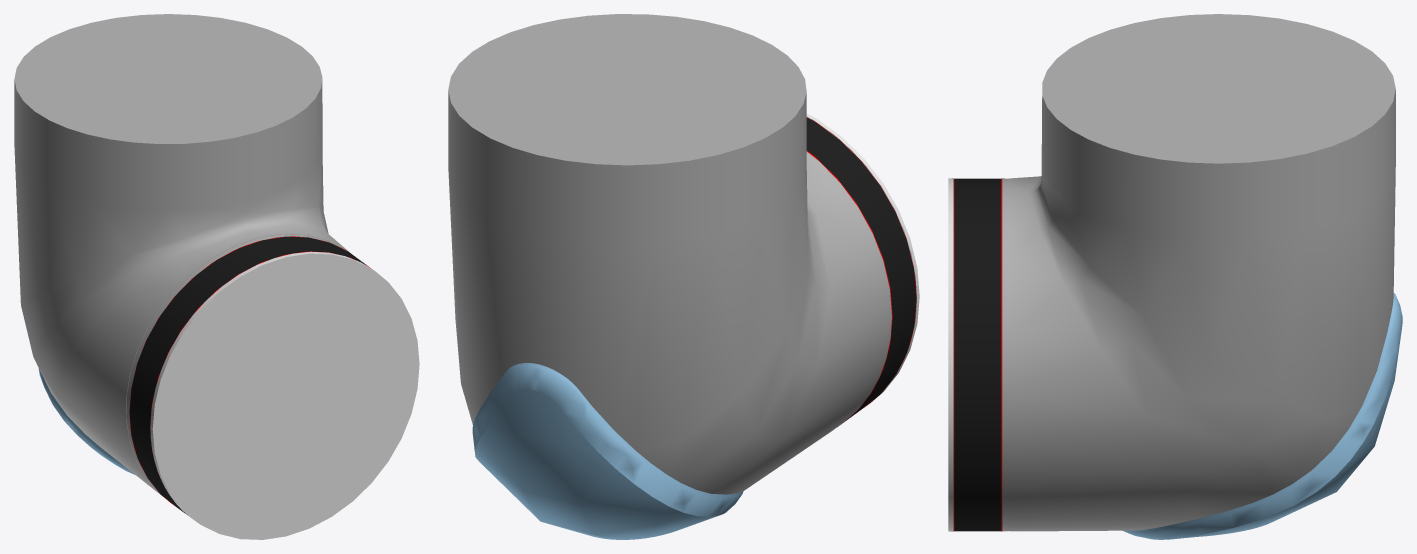
The model's file is wrist1.dae.
3 views of the same model, side by side, from view 1: azimuth 30°, elevation 25°; view 2: azimuth 150°, elevation 25°; view 3: azimuth 270°, elevation 25° (orthographic). The views are drawn at different scales.
Visible parts, largest first — view 1: wrist_1; view 2: wrist_1; view 3: wrist_1.
Part boxes in pixels (x1=…): wrist_1: x1=14, y1=14, x2=419, y2=539; wrist_1: x1=448, y1=14, x2=919, y2=539; wrist_1: x1=948, y1=14, x2=1402, y2=539.
Size of the model in its own units: 0.1 by 0.1284 by 0.1355.
